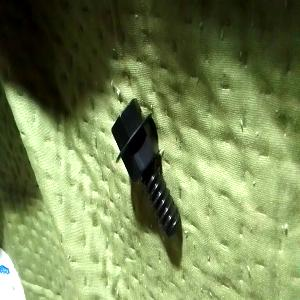parafuso: (111, 98, 182, 239)
